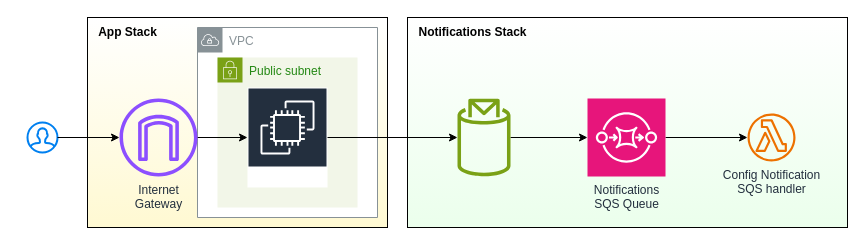
Image size: 865x245. Some labels were removed from this diagram. The centre of each missing label's shape, as x and y in pixels:
Amazon EC2: the point at 287,137
API client: the point at 42,137
Config Change SNS Topic: the point at 483,137
